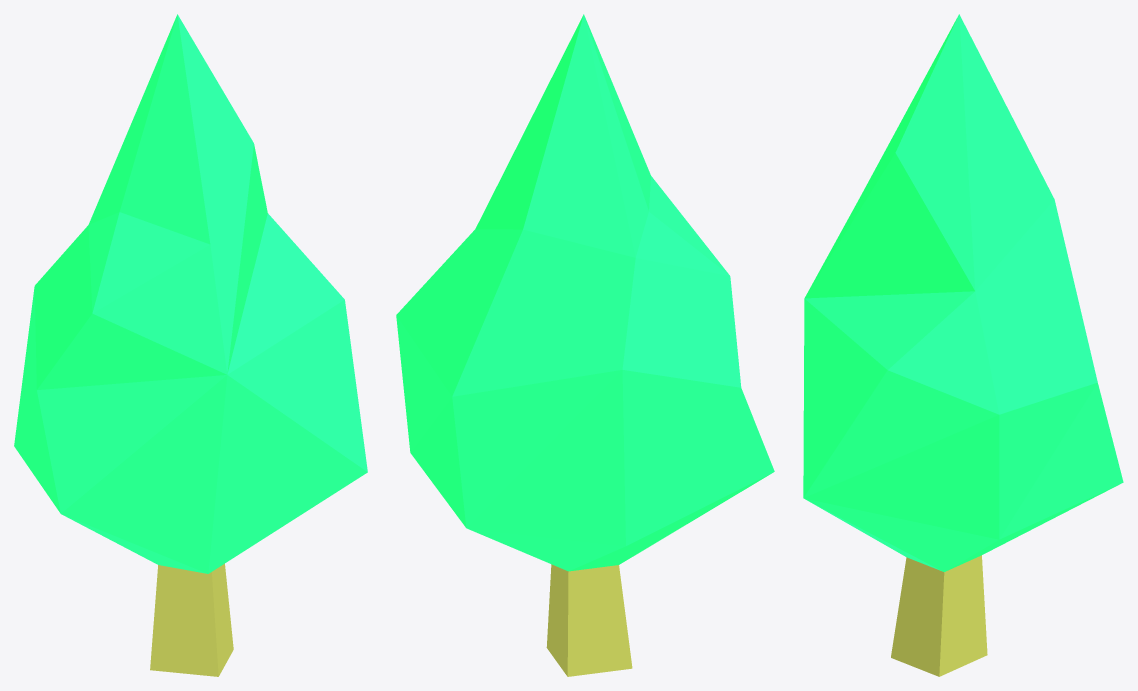
Rendered from tree00.fbx.
3 views of the same model, side by side, from view 1: azimuth 30°, elevation 25°; view 2: azimuth 150°, elevation 25°; view 3: azimuth 270°, elevation 25° (orthographic). The views are drawn at different scales.
Visible parts, largest first — view 1: leaf, bark; view 2: leaf, bark; view 3: leaf, bark.
Part boxes in pixels (box(x1,y1,x2,y2)): leaf: box(14, 14, 367, 573); bark: box(150, 563, 233, 676); leaf: box(396, 14, 774, 571); bark: box(546, 564, 632, 676); leaf: box(803, 14, 1123, 571); bark: box(891, 555, 987, 676).
Bounding box in the file's own units: 2.81 × 5.44 × 2.46.
